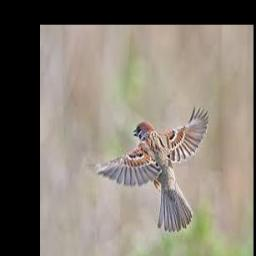Sparrow: (89, 105, 209, 232)
